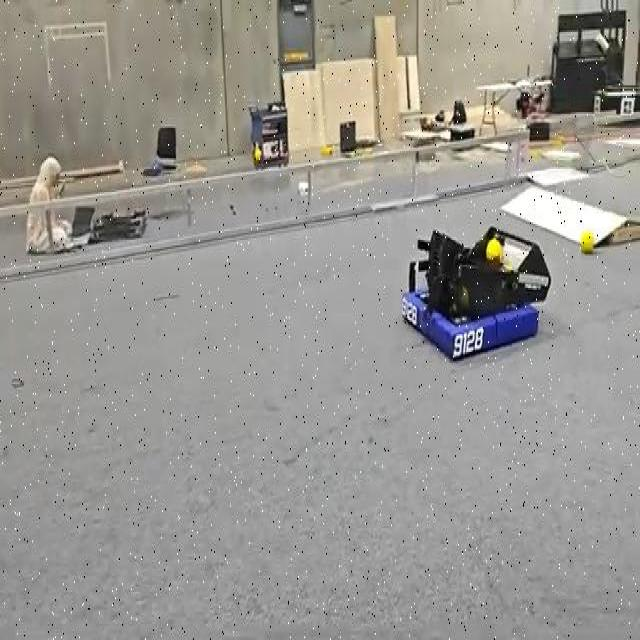Fuel: (486, 238, 502, 260), (580, 231, 593, 253)
